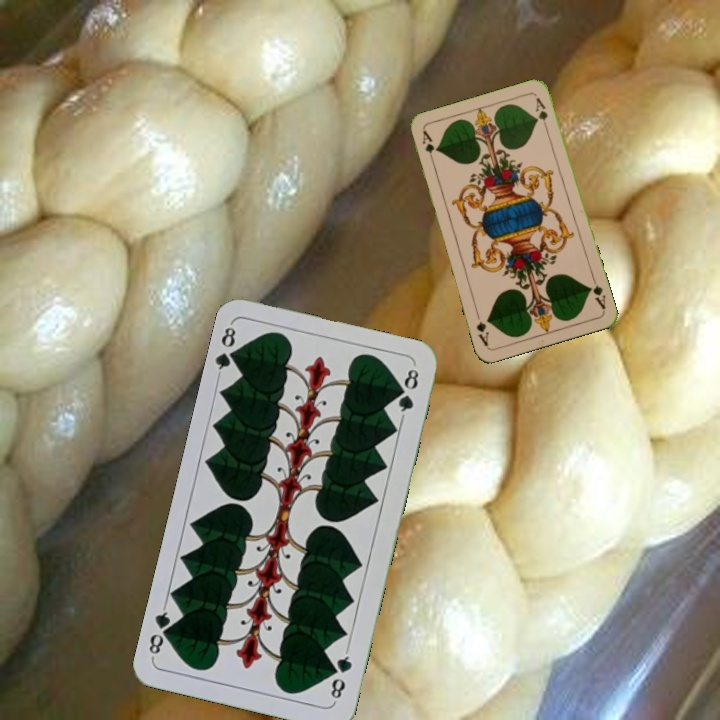G8: (212, 320, 243, 378), (326, 646, 355, 705)
GA: (585, 273, 608, 312), (418, 127, 438, 167)
